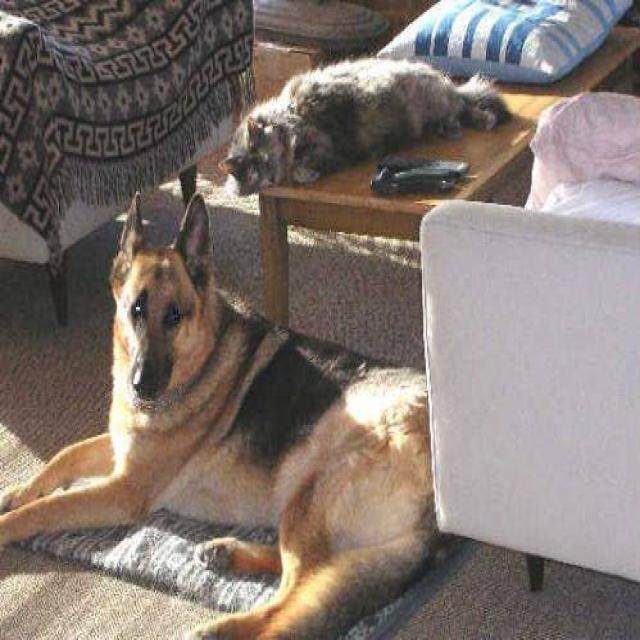dog: (0, 188, 466, 638)
